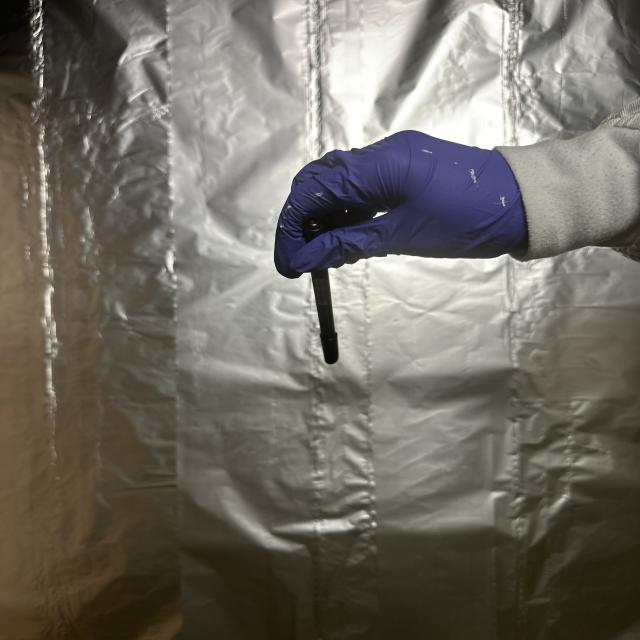gloves_contaminated: (272, 131, 528, 281)
